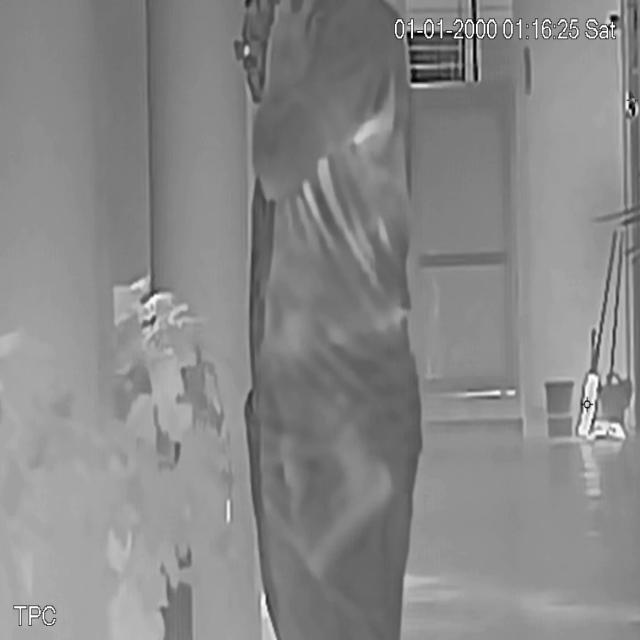Weapon: (294, 417, 400, 583)
